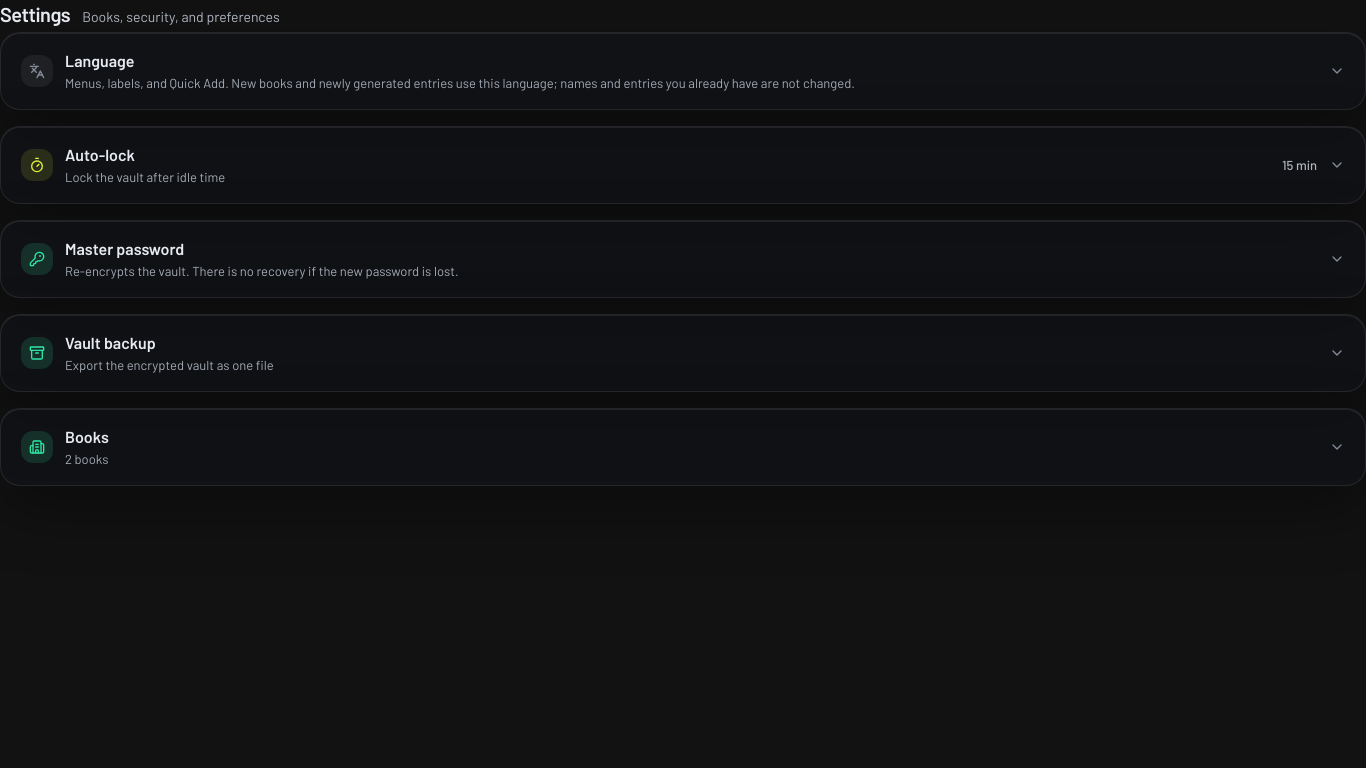
Test: SettingsPage archiving a book › Archive asks first, saying the book becomes read-only and can be restored
This screenshot has width=1366, height=768.
Click the button "Books 2 books": (37, 447) left=1, top=409, right=1365, bottom=485
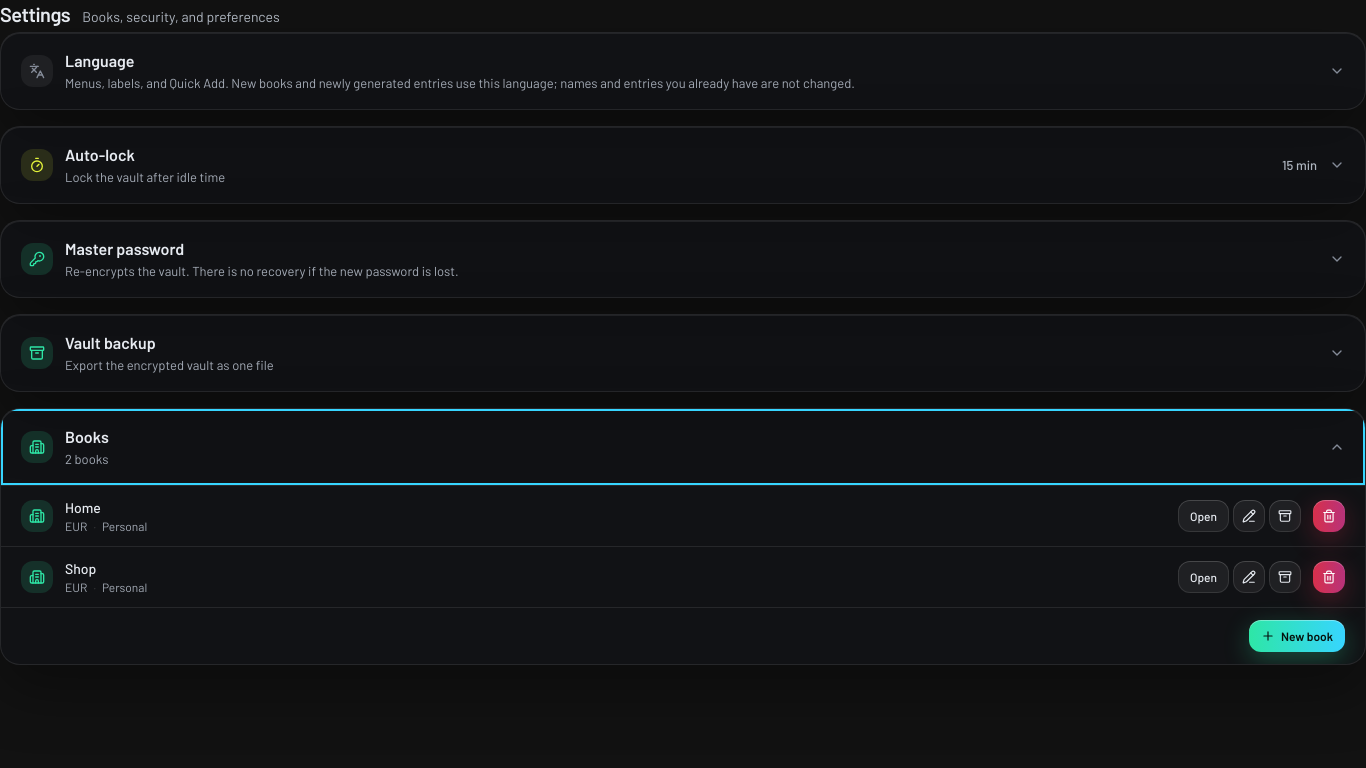
Click the button named "Archive Home": (1285, 516) left=1269, top=500, right=1301, bottom=532
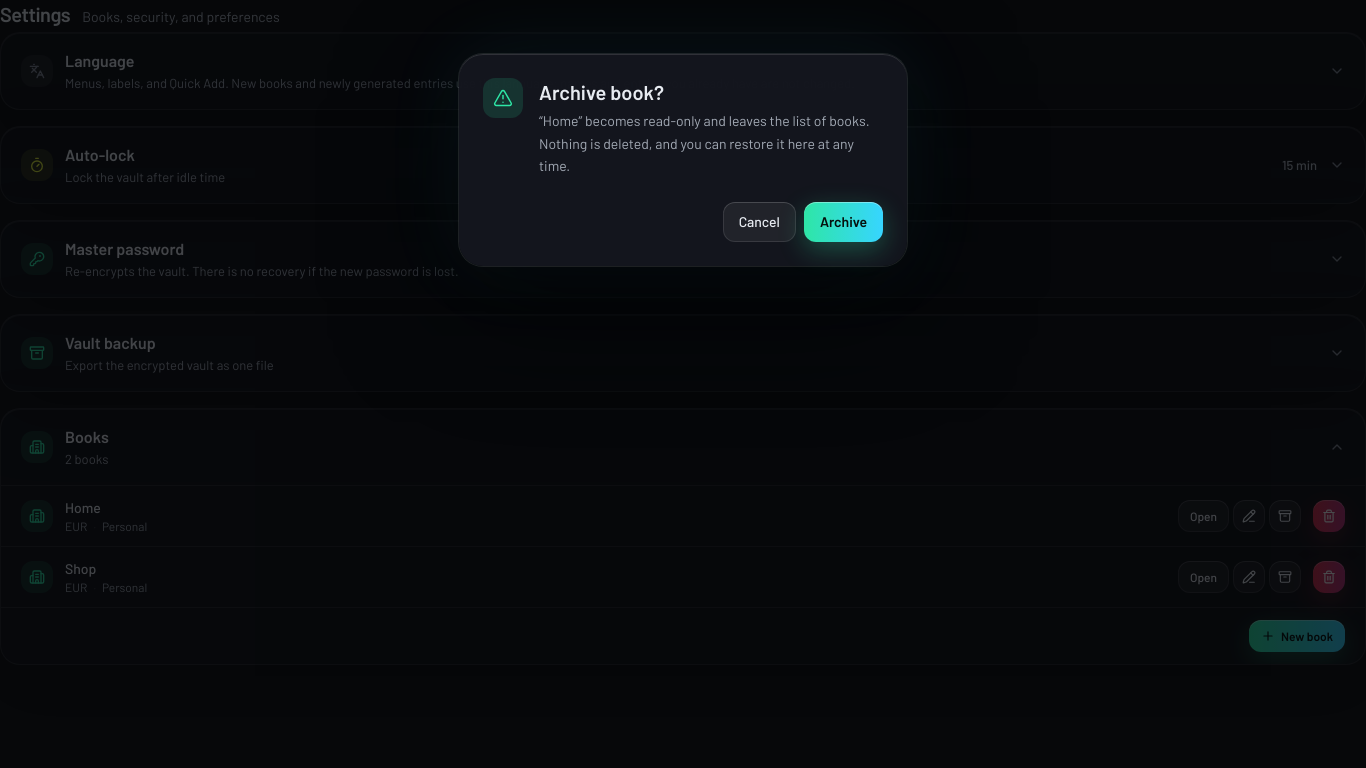
Expected: the dialog "Archive book?" shows "“Home” becomes read-only and leaves the list of books. Nothing is deleted, and you can restore it here at any time.", left=539, top=112, right=870, bottom=174
